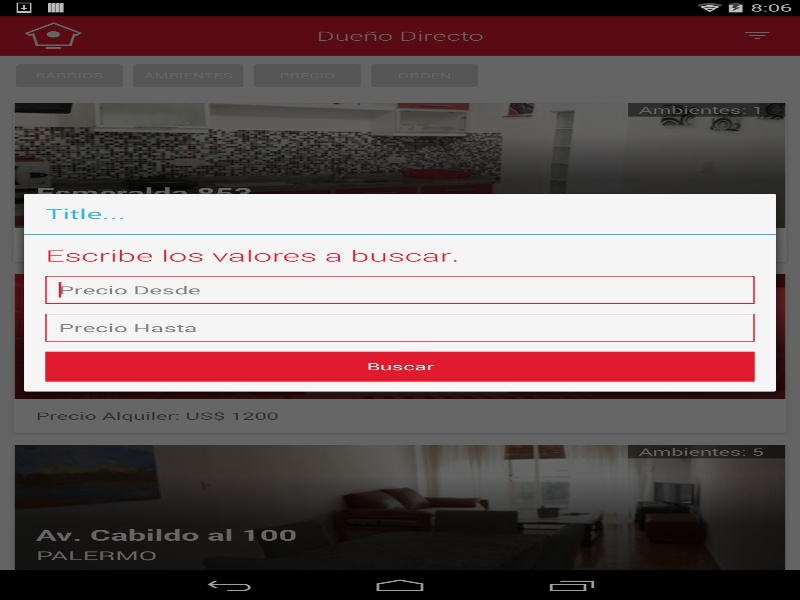Button: (45, 351, 754, 381)
Input: (45, 275, 754, 303), (45, 313, 754, 341)
